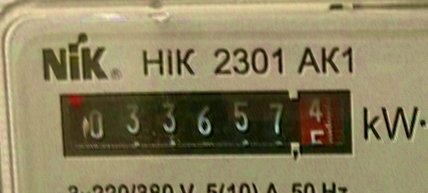0: (87, 105, 108, 142)
3: (125, 101, 144, 136), (161, 100, 179, 135)
4: (308, 94, 327, 124)
5: (231, 97, 253, 133)
6: (195, 103, 215, 138)
7: (268, 99, 286, 135)
screen: (49, 82, 362, 165)
